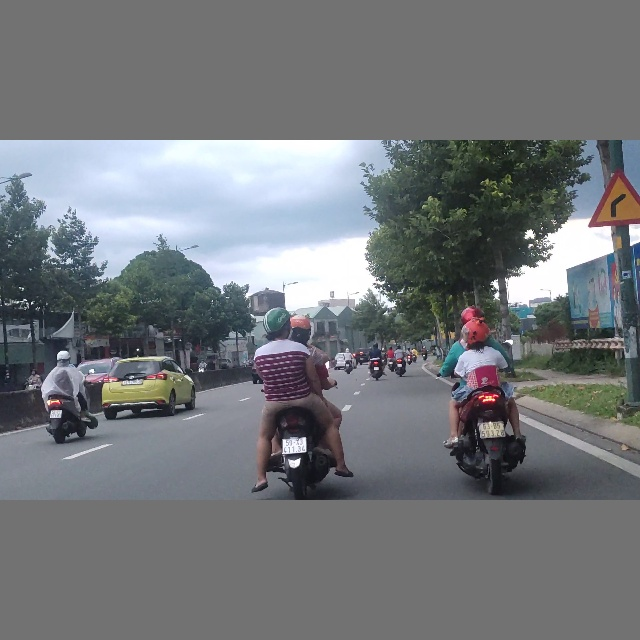W.201b: (585, 168, 640, 229)
